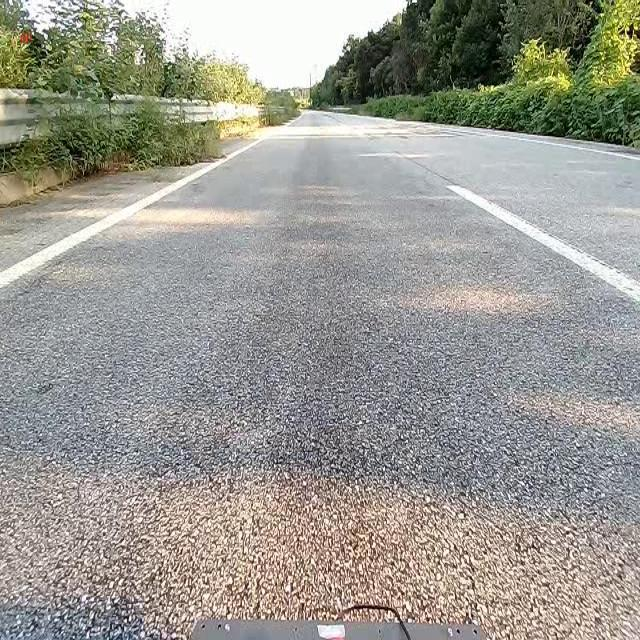Lane: (0, 129, 268, 291), (0, 140, 263, 290), (446, 177, 640, 304), (447, 185, 639, 304)
